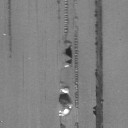slag inclusion: (56, 0, 80, 118), (92, 0, 104, 128), (7, 0, 12, 52), (73, 14, 78, 21), (59, 123, 66, 128), (75, 122, 78, 128)
